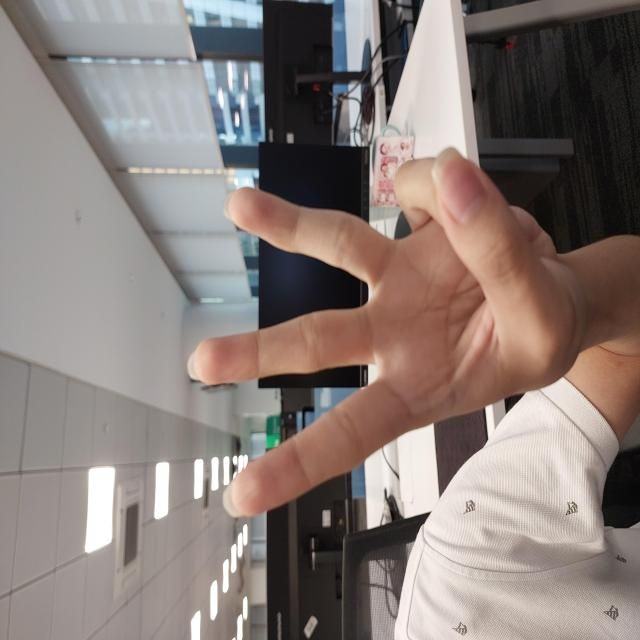W: (122, 187, 490, 581)
